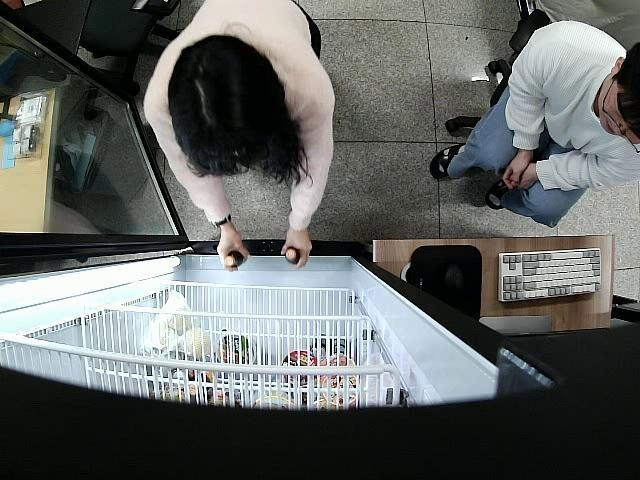17_vita500: (220, 248, 248, 270), (282, 246, 304, 265)
